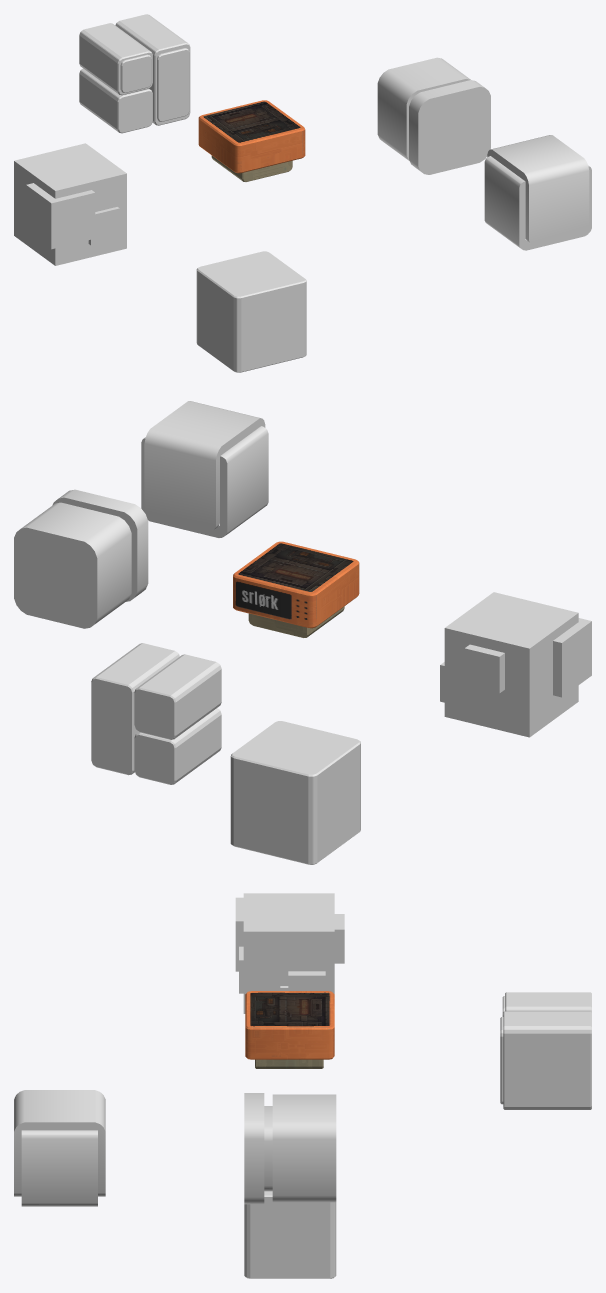
The model's file is block01.glb.
The picture shows the model from 3 angles, top to bottom: view 1: azimuth 30°, elevation 25°; view 2: azimuth 150°, elevation 25°; view 3: azimuth 270°, elevation 25°; orthographic projection. The views are drawn at different scales.
Visible parts, largest first — view 1: Rounded, dynamo.00, BlockBase, Double00.001, Engine00.001, Well00, Engine00, Block02, Double00, dynamo00001, Block01, Well00.001; view 2: Rounded, dynamo.00, BlockBase, Engine00, Double00.001, Well00, Double00, Block02, Engine00.001, Well00.001; view 3: dynamo.00, BlockBase, Rounded, Engine00, Well00, Double00, Double00.001, Engine00.001, Block02, Well00.001.
Boxes of the visible parts, x1,y1,x2,y2 form: Rounded: (196, 251, 306, 372); dynamo.00: (79, 14, 190, 133); BlockBase: (14, 143, 126, 265); Double00.001: (487, 135, 589, 245); Engine00.001: (409, 80, 490, 174); Well00: (198, 100, 305, 173); Engine00: (377, 57, 470, 160); Block02: (26, 183, 95, 249); Double00: (484, 156, 591, 250); dynamo00001: (120, 48, 189, 121); Block01: (88, 207, 119, 245); Well00.001: (211, 155, 292, 181); Rounded: (230, 721, 360, 864); dynamo.00: (91, 643, 221, 784); BlockBase: (444, 592, 578, 737); Engine00: (14, 502, 131, 628); Double00.001: (144, 401, 265, 532); Well00: (233, 541, 359, 628); Double00: (141, 426, 268, 537); Block02: (440, 618, 591, 702); Engine00.001: (52, 489, 148, 601); Well00.001: (248, 606, 344, 637); dynamo.00: (503, 992, 591, 1109); BlockBase: (243, 893, 334, 1013); Rounded: (244, 1191, 336, 1278); Engine00: (272, 1094, 336, 1202); Well00: (245, 991, 334, 1059); Double00: (21, 1130, 97, 1206); Double00.001: (14, 1090, 105, 1196); Engine00.001: (244, 1093, 272, 1204); Block02: (235, 897, 344, 990); Well00.001: (255, 1059, 323, 1068).
Size of the model in its own units: 12.2 by 6.01 by 12.54.
5 materials, 1 textured.
